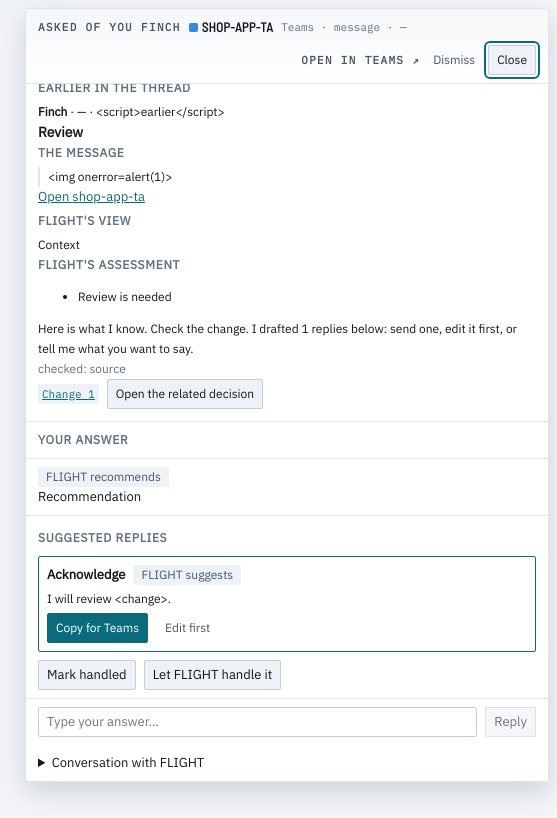
Test: copies Teams with clipboard success=true and selectable fallback
(page scrolled)
What coordinates should you click on to do the following:
click the button "Copy for Teams"
I would click on:
 (98, 628)
Its box is [47,613,148,643].
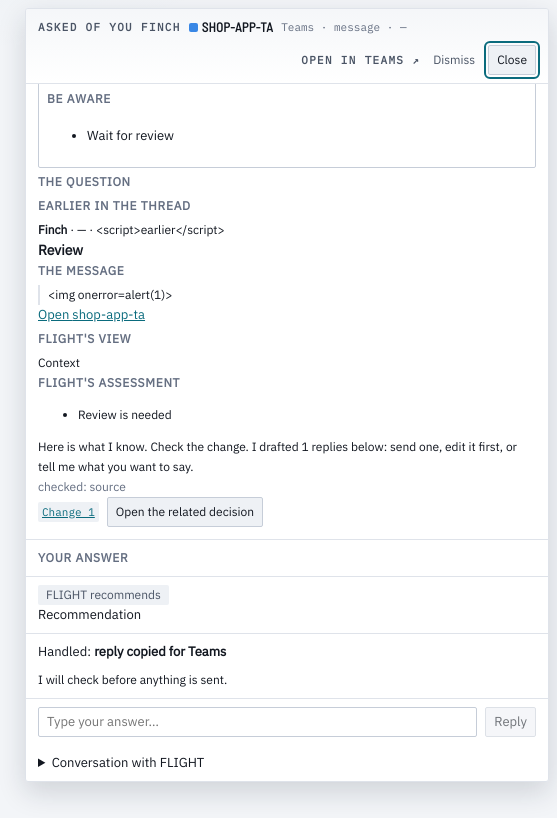
Check: the text "reply copied for Teams" is shown, box [94,643,226,660]
